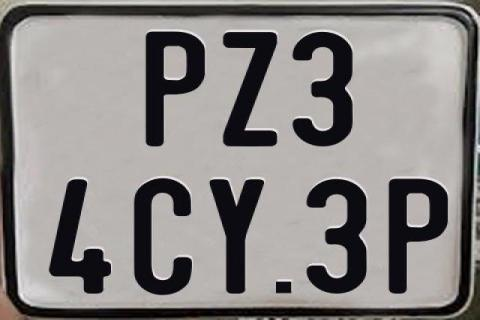0: (47, 178, 115, 294), (292, 31, 359, 148), (305, 177, 369, 295)
C: (131, 178, 192, 296)
P: (387, 178, 447, 296), (143, 29, 202, 145)
Y: (206, 177, 267, 297)
Z: (224, 30, 280, 146)
